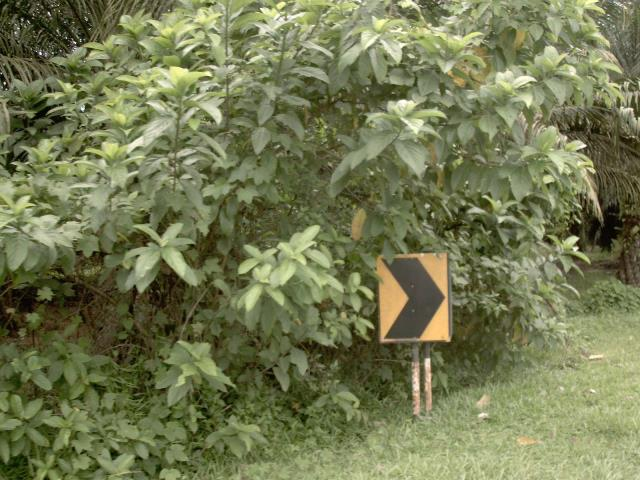traffic_sign: (368, 238, 458, 355)
